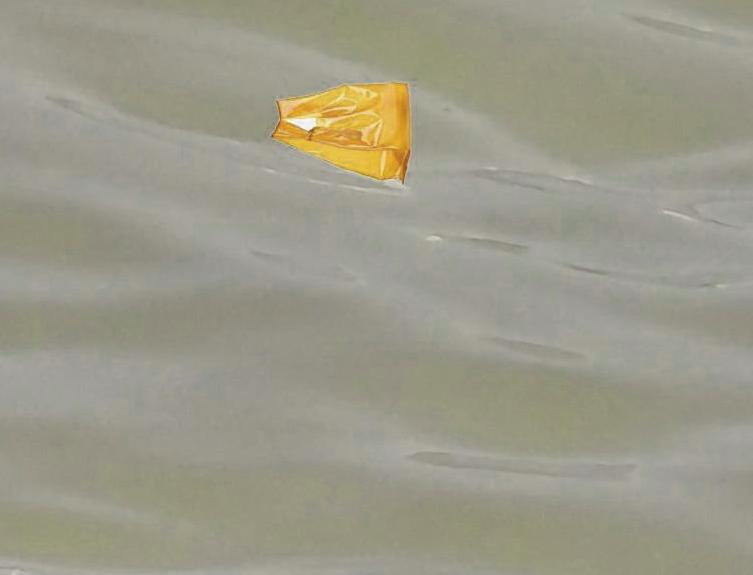Trash: (274, 82, 416, 185)
